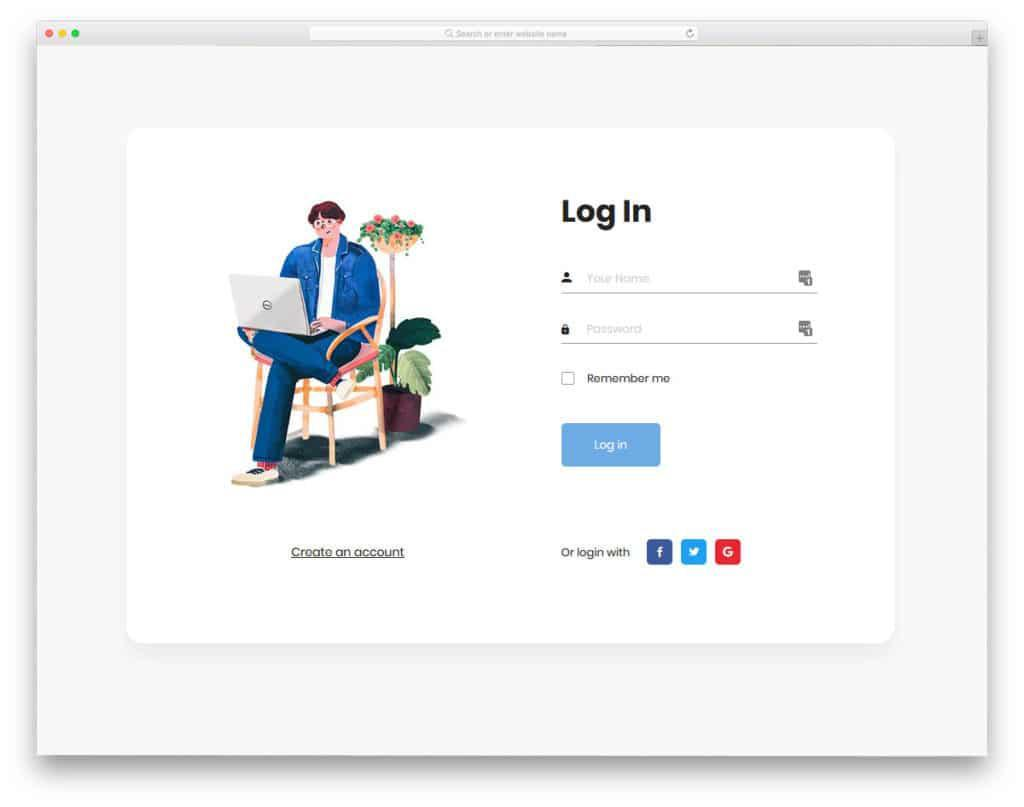button: (562, 424, 663, 468)
checkbox: (562, 373, 576, 386)
icon: (715, 539, 744, 567), (681, 538, 708, 567), (648, 539, 674, 566), (797, 268, 815, 288), (798, 320, 815, 339), (972, 29, 990, 46), (560, 269, 576, 287), (560, 321, 573, 339)
label: (563, 193, 658, 234), (289, 544, 406, 563), (559, 545, 632, 562), (586, 372, 673, 386)
